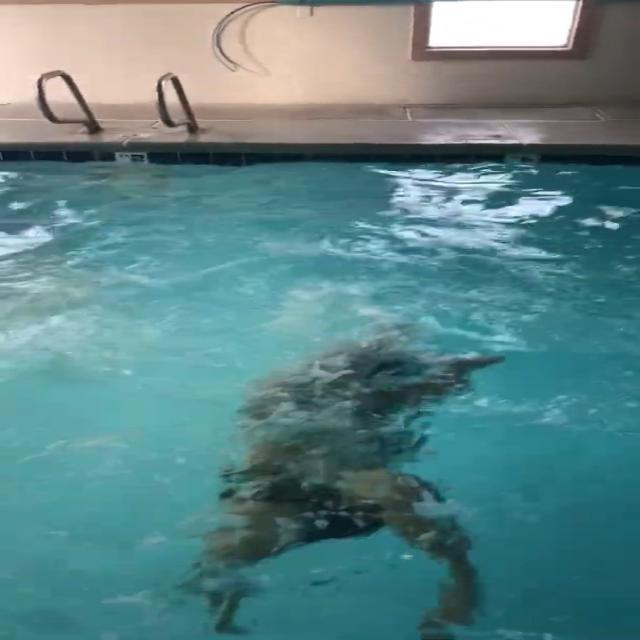Drowning: (207, 336, 495, 628)
